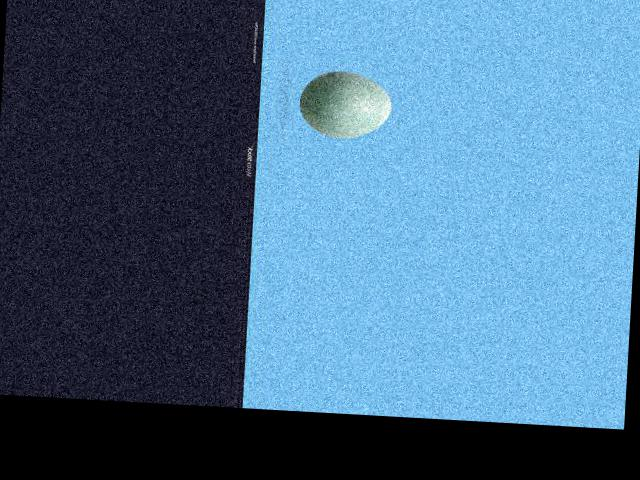egg: (298, 67, 393, 140)
